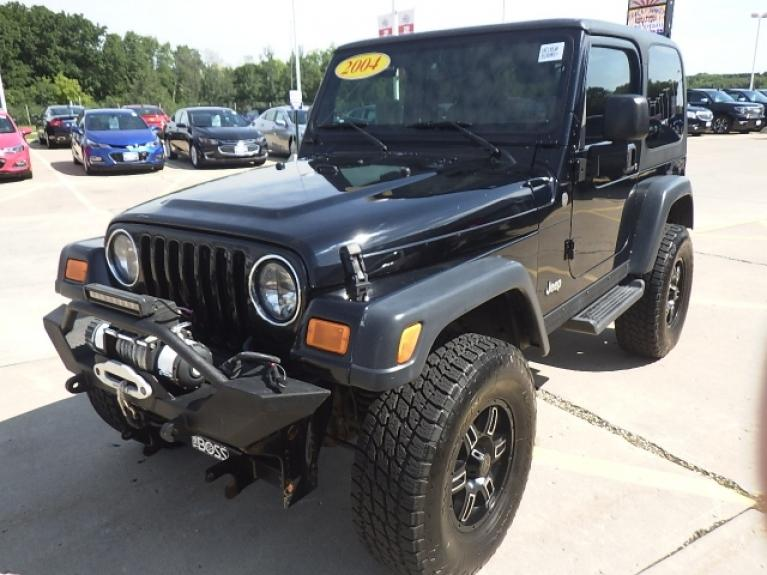windshield: (309, 28, 570, 145)
